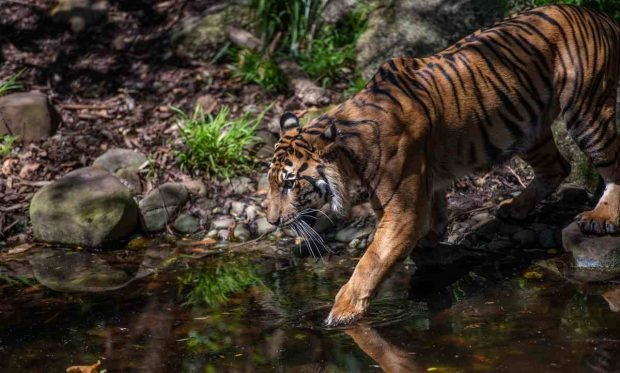Tigrew: (266, 44, 608, 322)
